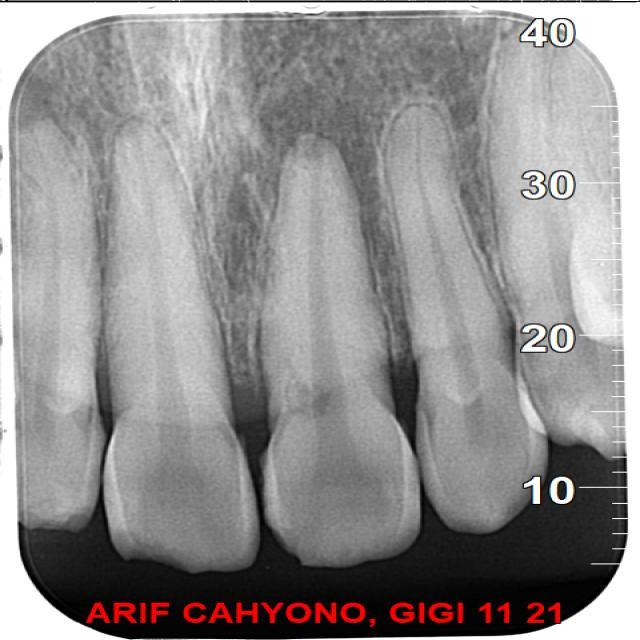individual-tooth-8tto: (106, 126, 261, 575), (395, 107, 547, 534), (262, 153, 420, 561)
